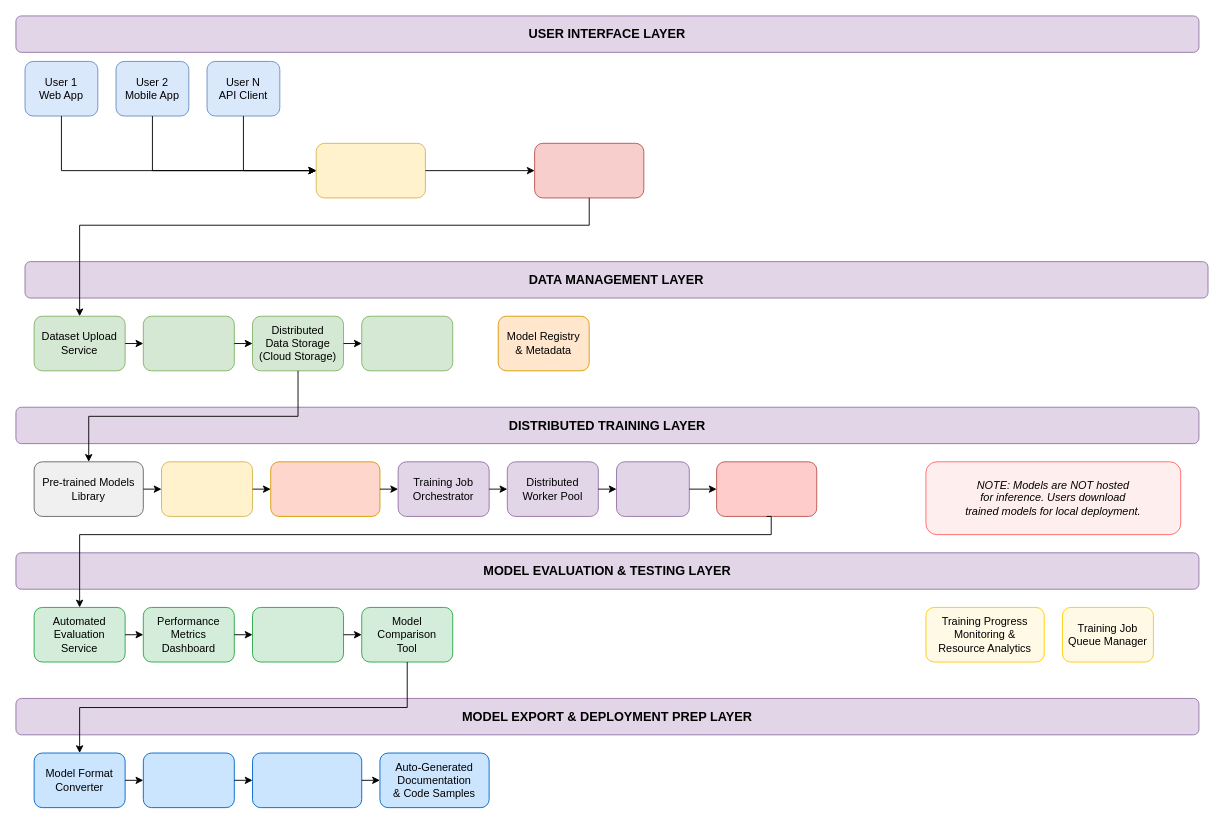
The diagram is 1224 pixels wide and 824 high, and some of its shapes have lost their labels. Here are the shapes that lost their labels. From the top down, the centre of each, then its label:
[370,170]: Load Balancer & API Gateway
[589,170]: Authentication & User Management
[188,343]: Data Validation & Preprocessing
[407,343]: Dataset Versioning & Lineage
[207,488]: Model Selection Engine
[325,488]: Hyperparameter Optimization Service
[652,488]: GPU/TPU Cluster
[766,488]: Training Pipeline Manager
[298,634]: Cross-Validation & Testing Framework
[188,780]: Model Optimization (Quantization)
[307,780]: Export Options: TensorFlow.js TFLite, ONNX Core ML
